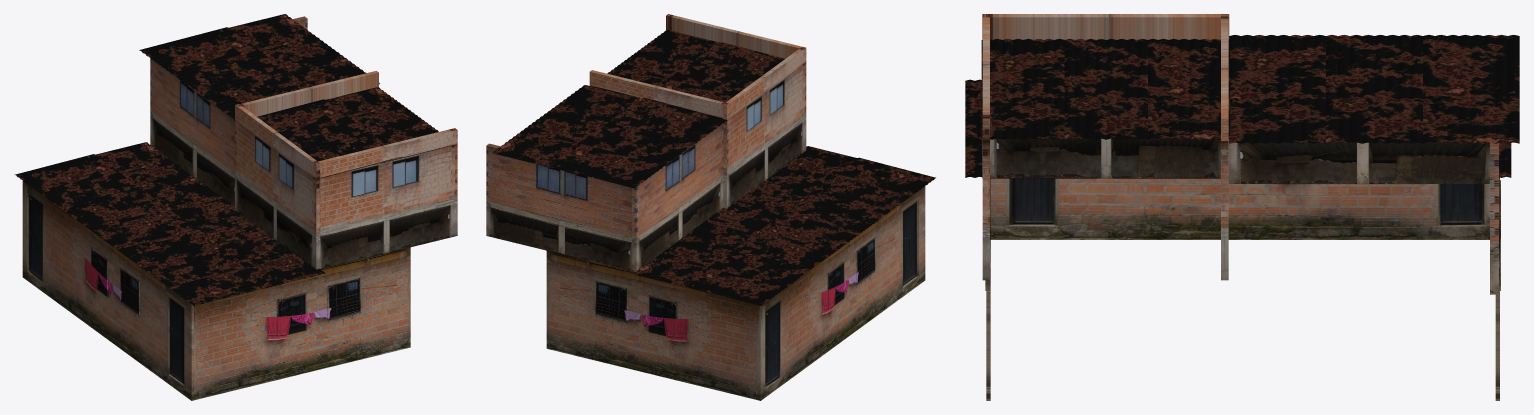
Rendered from casa_izquierda_13.fbx.
3 views of the same model, side by side, from view 1: azimuth 30°, elevation 25°; view 2: azimuth 150°, elevation 25°; view 3: azimuth 270°, elevation 25° (orthographic). The views are drawn at different scales.
Parts seen in each view (by area): view 1: Techo_13.02, casa_izquierda_13.001, casa_izquierda_13, casa_izquierda_13B.002, Techo_13.03, casa_izquierda_13B.001, Techo_13.01, casa_izquierda_13A, casa_izquierda_13B.003; view 2: Techo_13.02, casa_izquierda_13.002, casa_izquierda_13, Techo_13.03, casa_izquierda_13A.001, casa_izquierda_13B.001, casa_izquierda_13A, Techo_13.01, casa_izquierda_13B.003, casa_izquierda_13B.002; view 3: Techo_13.03, casa_izquierda_13, Techo_13.01, casa_izquierda_13B.001, casa_izquierda_13A, Techo_13.02, casa_izquierda_13B.003, casa_izquierda_13B.002, casa_izquierda_13A.001, casa_izquierda_13.002, casa_izquierda_13.001.
Boxes of the visible parts, left/top/right/bottom form: Techo_13.02: left=14, top=142, right=325, bottom=305; casa_izquierda_13.001: left=194, top=247, right=410, bottom=400; casa_izquierda_13: left=22, top=180, right=193, bottom=400; casa_izquierda_13B.002: left=318, top=128, right=457, bottom=268; Techo_13.03: left=139, top=14, right=379, bottom=119; casa_izquierda_13B.001: left=235, top=104, right=320, bottom=269; Techo_13.01: left=257, top=87, right=455, bottom=178; casa_izquierda_13A: left=150, top=59, right=234, bottom=206; casa_izquierda_13B.003: left=236, top=71, right=378, bottom=116; Techo_13.02: left=633, top=146, right=935, bottom=305; casa_izquierda_13.002: left=546, top=250, right=758, bottom=400; casa_izquierda_13: left=758, top=186, right=925, bottom=400; Techo_13.03: left=492, top=85, right=727, bottom=188; casa_izquierda_13A.001: left=486, top=143, right=631, bottom=270; casa_izquierda_13B.001: left=723, top=46, right=806, bottom=208; casa_izquierda_13A: left=632, top=123, right=723, bottom=271; Techo_13.01: left=590, top=29, right=784, bottom=118; casa_izquierda_13B.003: left=589, top=70, right=728, bottom=118; casa_izquierda_13B.002: left=666, top=14, right=801, bottom=58; Techo_13.03: left=1229, top=34, right=1519, bottom=143; casa_izquierda_13: left=990, top=178, right=1489, bottom=239; Techo_13.01: left=981, top=38, right=1229, bottom=139; casa_izquierda_13B.001: left=982, top=14, right=1229, bottom=178; casa_izquierda_13A: left=1229, top=39, right=1489, bottom=183; Techo_13.02: left=965, top=79, right=1511, bottom=177; casa_izquierda_13B.003: left=1221, top=14, right=1228, bottom=280; casa_izquierda_13B.002: left=982, top=17, right=989, bottom=280; casa_izquierda_13A.001: left=1490, top=142, right=1498, bottom=294; casa_izquierda_13.002: left=1495, top=177, right=1500, bottom=400; casa_izquierda_13.001: left=985, top=178, right=990, bottom=400.
Size of the model in its own units: 1203 by 834 by 1327.
